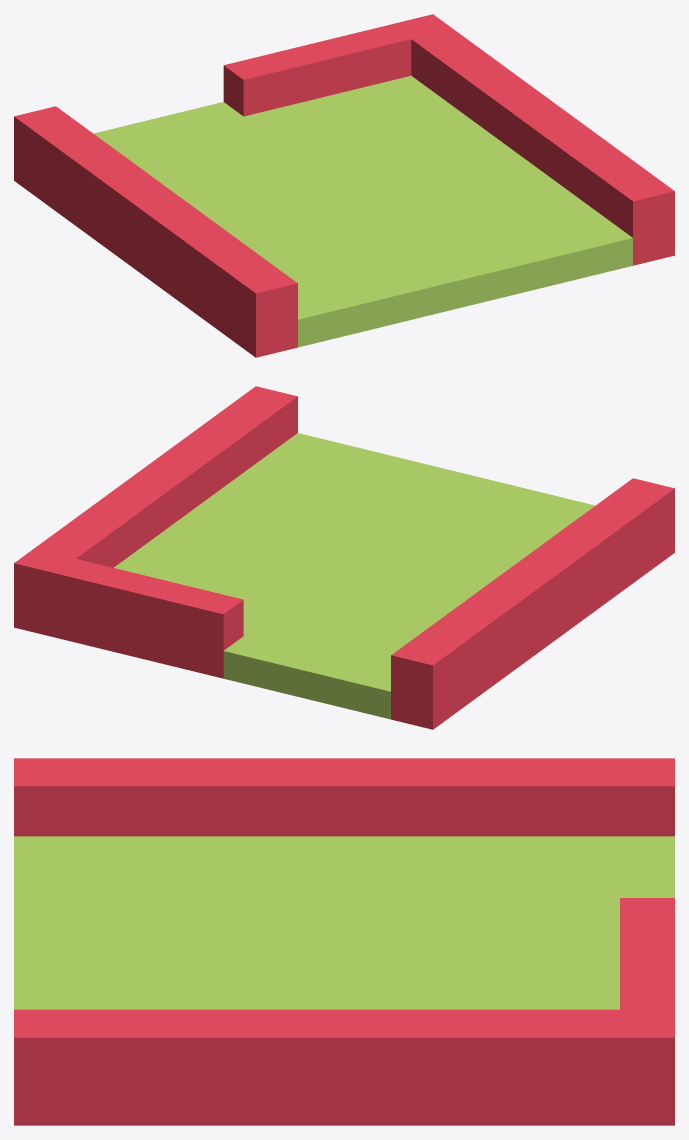
The model's file is wallLeft.fbx.
The picture shows the model from 3 angles, top to bottom: view 1: azimuth 30°, elevation 25°; view 2: azimuth 150°, elevation 25°; view 3: azimuth 270°, elevation 25°; orthographic projection. The views are drawn at different scales.
Parts seen in each view (by area): view 1: wallLeft; view 2: wallLeft; view 3: wallLeft.
Boxes of the visible parts, x1,y1,x2,y2 form: wallLeft: (14,14,674,357); wallLeft: (14,386,674,729); wallLeft: (14,758,674,1125).
Size of the model in its own units: 10 by 1.47 by 10.
